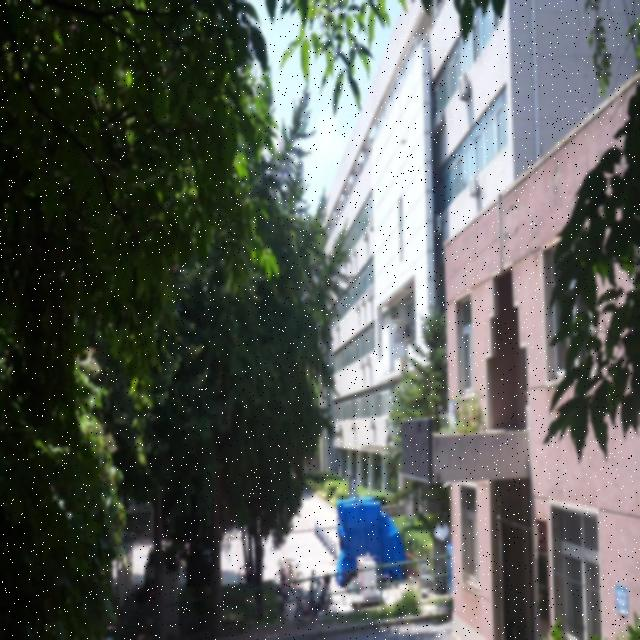UAV: (400, 139, 408, 145)
